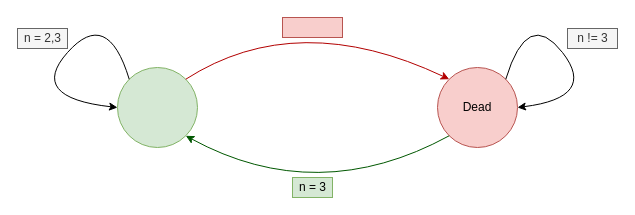
Image size: 635x215. Some labels were removed from this diagram. The centre of each missing label's shape, as x and y in pixels:
Alive: point (157, 107)
n != 2,3: point (312, 27)
